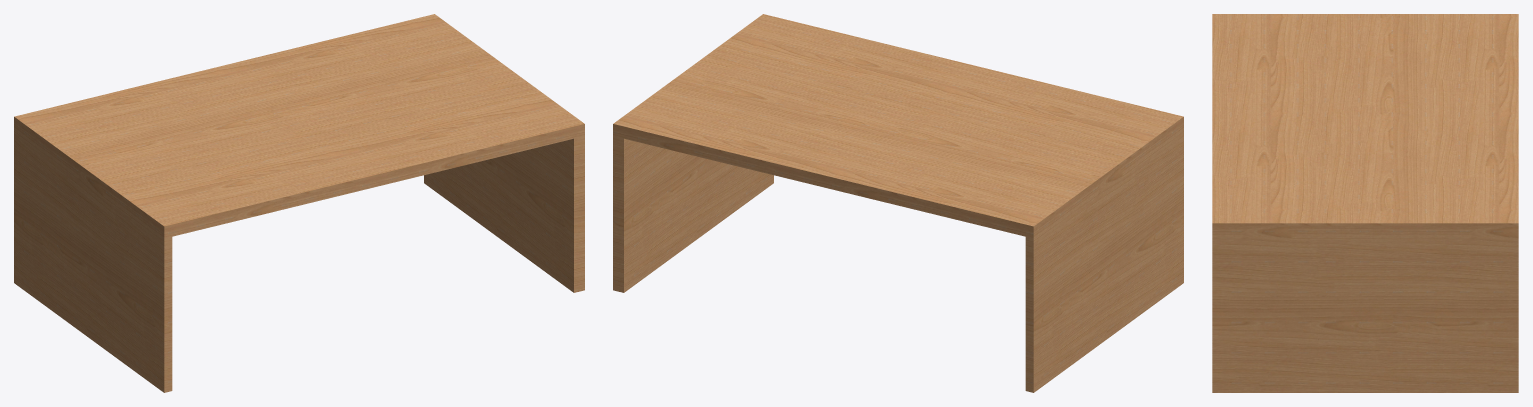
Rendered from Desk.fbx.
3 views of the same model, side by side, from view 1: azimuth 30°, elevation 25°; view 2: azimuth 150°, elevation 25°; view 3: azimuth 270°, elevation 25° (orthographic).
Visible parts, largest first — view 1: Model; view 2: Model; view 3: Model.
Part boxes in pixels (x1,y1,x2,y2): Model: [14, 14, 584, 392]; Model: [613, 14, 1183, 392]; Model: [1212, 14, 1518, 392].
Bounding box in the file's own units: 2.17 × 0.82 × 1.34.
